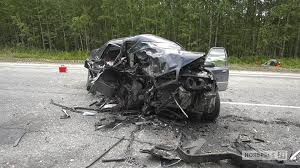car: (86, 26, 235, 124)
